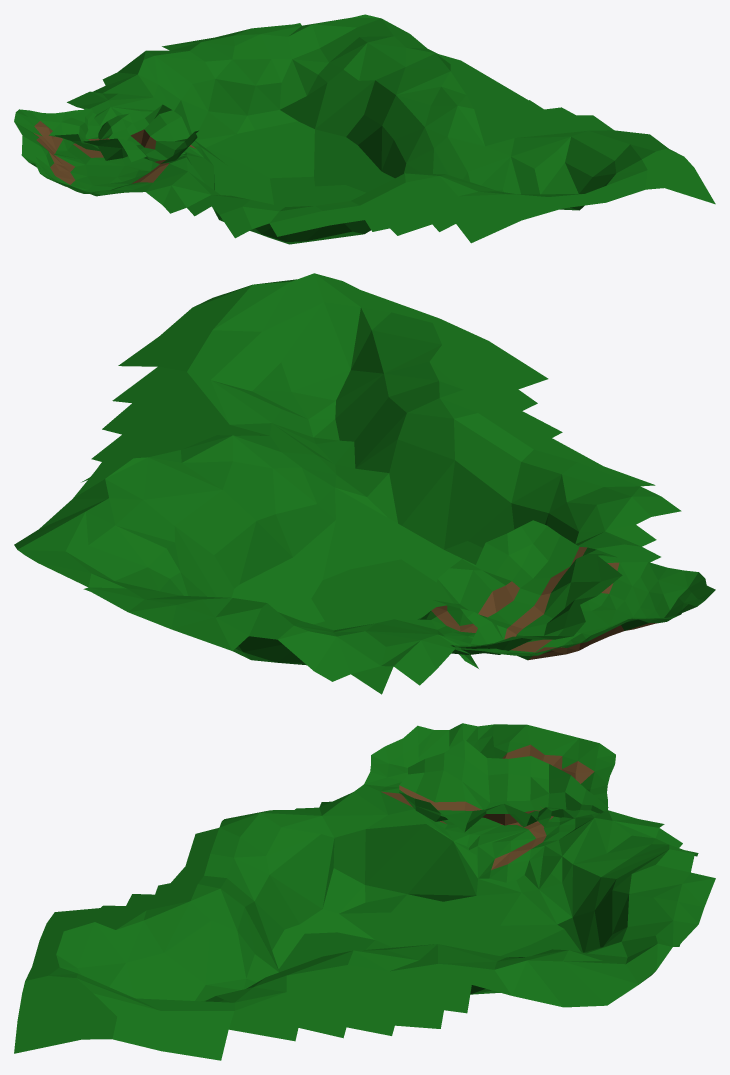
The model's file is terrain.glb.
3 renders of one model, top to bottom at view 1: azimuth 30°, elevation 25°; view 2: azimuth 150°, elevation 25°; view 3: azimuth 270°, elevation 25°, orthographic. The views are drawn at different scales.
Parts seen in each view (by area): view 1: WorldLakeTerrain, WorldPlayableTerrain, MainMenuTerrain; view 2: WorldLakeTerrain, MainMenuTerrain, WorldPlayableTerrain; view 3: WorldLakeTerrain, WorldPlayableTerrain, MainMenuTerrain.
Boxes of the visible parts, x1,y1,x2,y2 form: WorldLakeTerrain: (67,14,715,244); WorldPlayableTerrain: (14,107,203,196); MainMenuTerrain: (49,104,198,163); WorldLakeTerrain: (14,273,681,694); MainMenuTerrain: (432,520,622,654); WorldPlayableTerrain: (395,562,715,660); WorldLakeTerrain: (14,784,715,1060); WorldPlayableTerrain: (364,723,615,889); MainMenuTerrain: (399,739,608,832).
Size of the model in its own units: 91.25 by 16.92 by 87.68.
